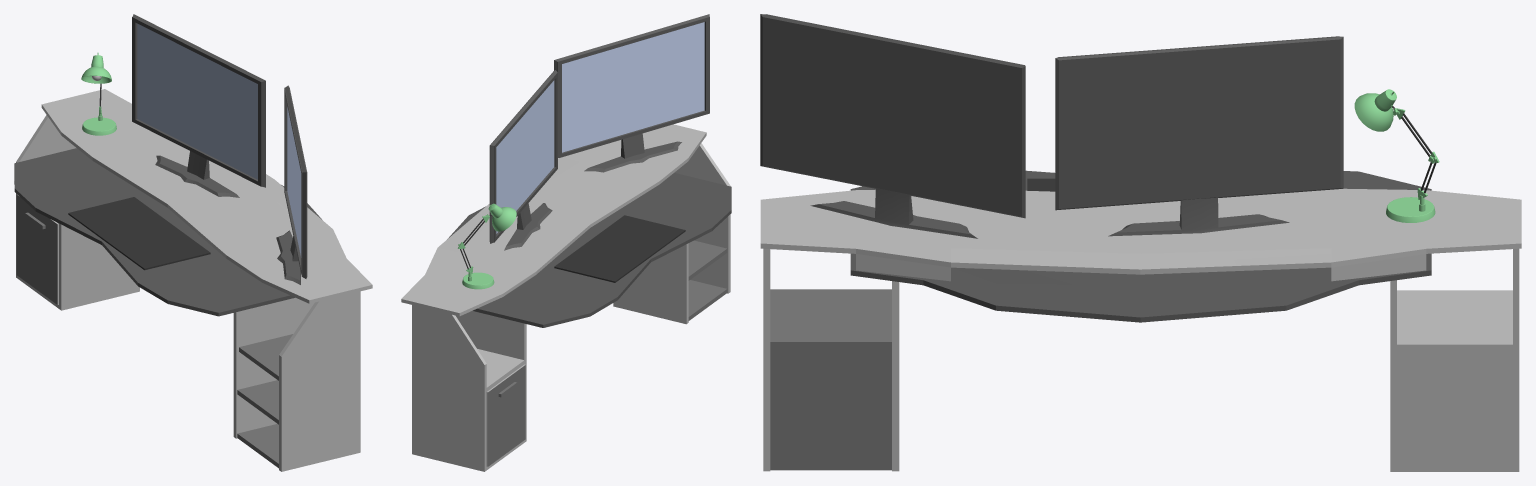
The model's file is Security Room Desk.fbx.
The picture shows the model from 3 angles, left to right: view 1: azimuth 30°, elevation 25°; view 2: azimuth 150°, elevation 25°; view 3: azimuth 270°, elevation 25°; orthographic projection. The views are drawn at different scales.
Parts seen in each view (by area): view 1: Desk, Monitor.001, Mousepad, Monitor, desk-light; view 2: Desk, Monitor, Monitor.001, Mousepad, desk-light; view 3: Desk, Monitor.001, Monitor, desk-light.
Part boxes in pixels (x1,y1,x2,y2): Desk: (14,89,372,471); Monitor.001: (132,14,265,197); Mousepad: (68,197,210,270); Monitor: (276,85,307,284); desk-light: (81,52,116,135); Desk: (401,124,731,471); Monitor: (554,14,709,172); Monitor.001: (489,70,557,250); Mousepad: (554,215,685,282); desk-light: (458,203,516,289); Desk: (760,170,1521,471); Monitor.001: (1055,36,1343,236); Monitor: (760,14,1025,238); desk-light: (1354,89,1439,222).
Bounding box in the file's own units: 131 × 173 × 285.
